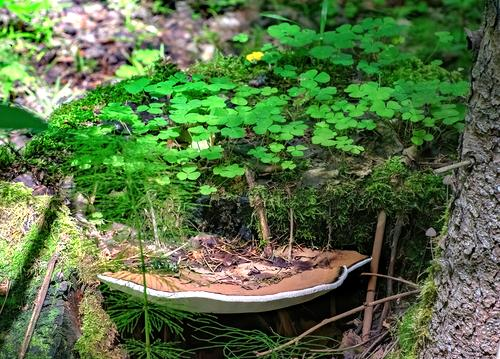Ganoderma - Fruit Body: (99, 236, 370, 318)
